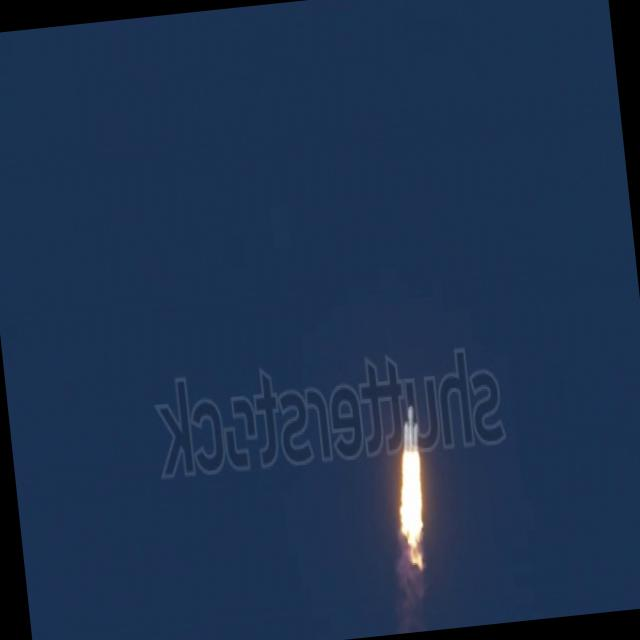rocket: (386, 412, 434, 546)
